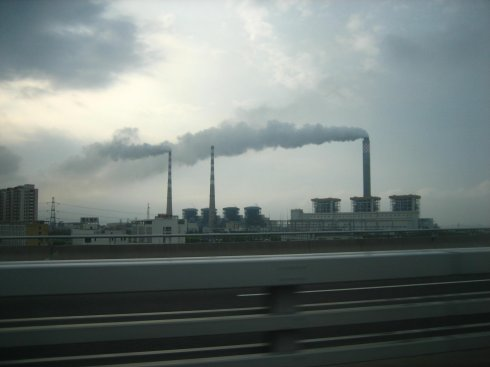dust: (251, 111, 375, 145), (80, 127, 176, 160)
